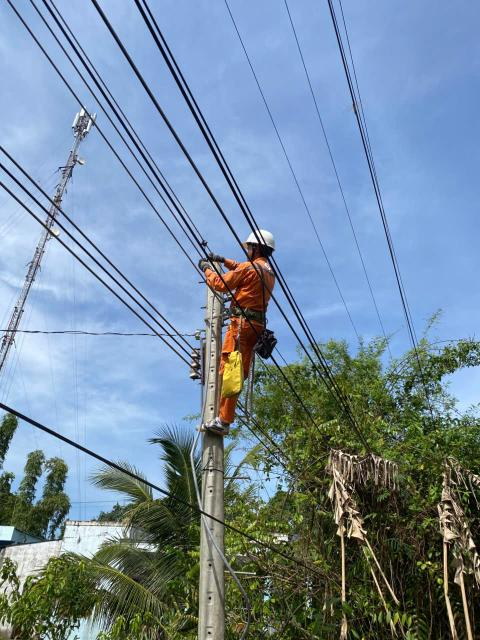gloves: (200, 247, 232, 267), (190, 254, 212, 275)
harness: (205, 304, 271, 332)
helmet: (239, 229, 277, 252)
shoes: (202, 412, 245, 438), (187, 419, 206, 435)
